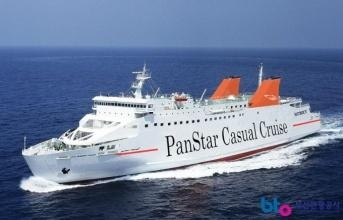warship: (12, 56, 324, 188)
